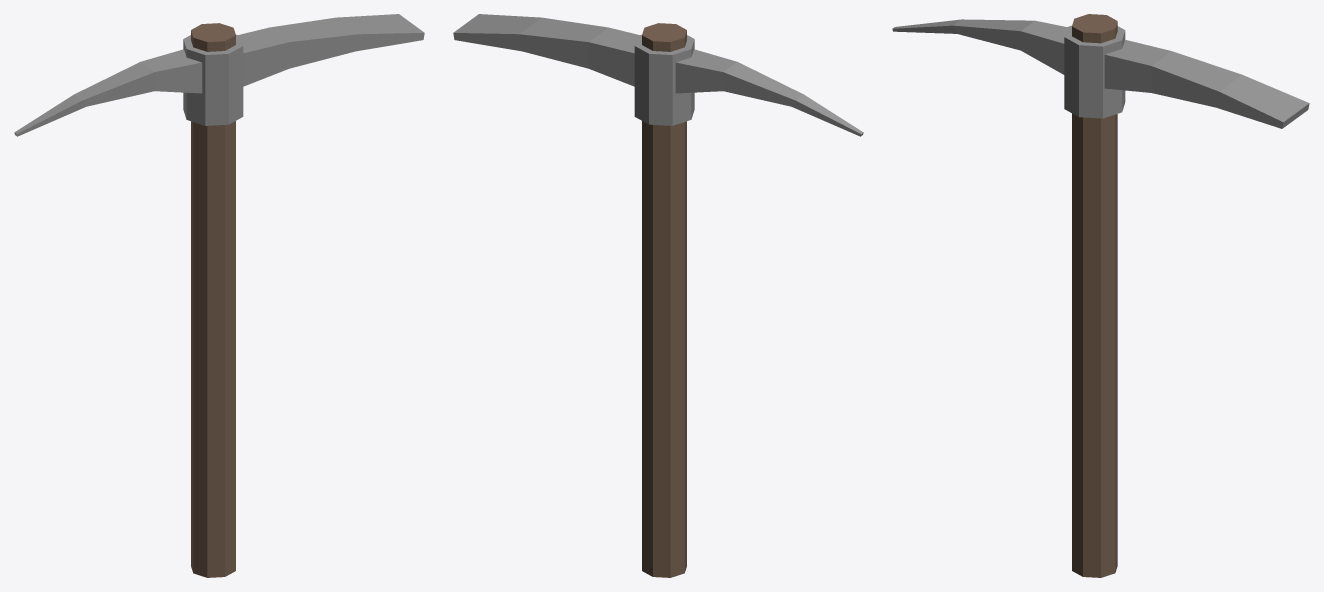
File: Pick.fbx
The picture shows the model from 3 angles, left to right: view 1: azimuth 30°, elevation 25°; view 2: azimuth 150°, elevation 25°; view 3: azimuth 330°, elevation 25°; orthographic projection.
Parts seen in each view (by area): view 1: Pick; view 2: Pick; view 3: Pick.
Part boxes in pixels (x1,y1,x2,y2): Pick: [14, 14, 424, 577]; Pick: [453, 14, 863, 577]; Pick: [892, 14, 1309, 577].
Bounding box in the file's own units: 64.69 × 8.78 × 83.54.
